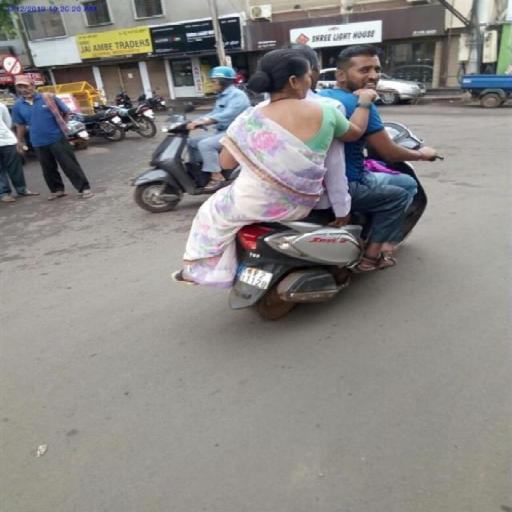tripple riding: (207, 40, 428, 198)
